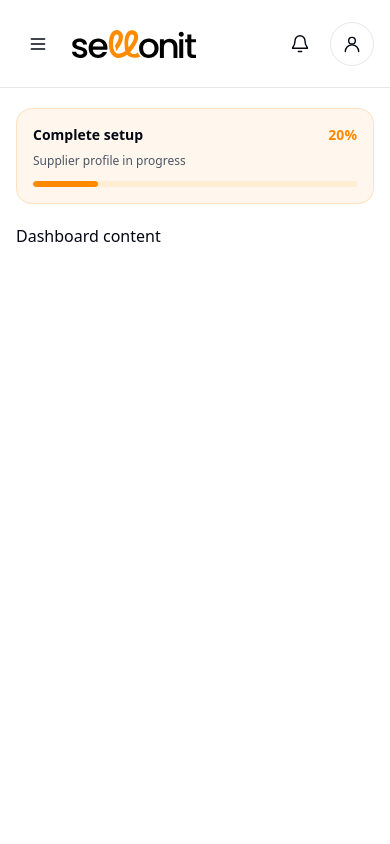
Test: supplier workspace shell › closes the mobile drawer when its overlay is clicked
Click the button named "Open navigation" at [38, 44], box [16,22,60,66]
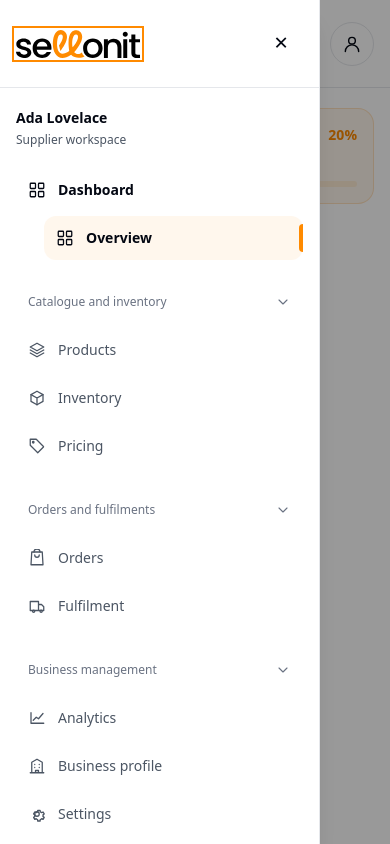
Press the mouse on the element that starts with "Ada Lovelace" at [195, 422], box [0,0,389,843]
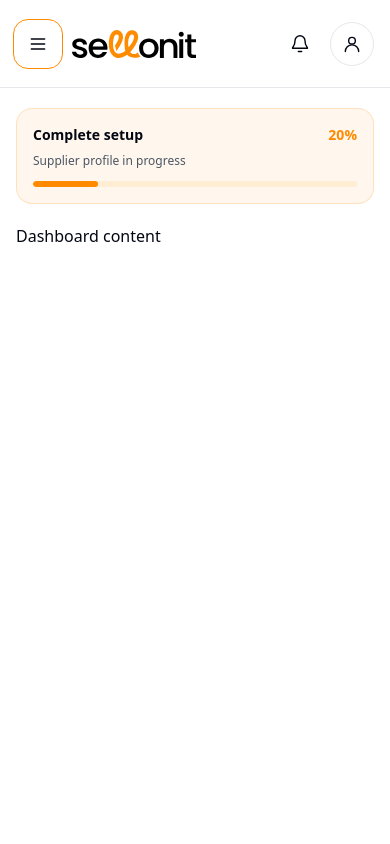
Check: the dialog is gone
